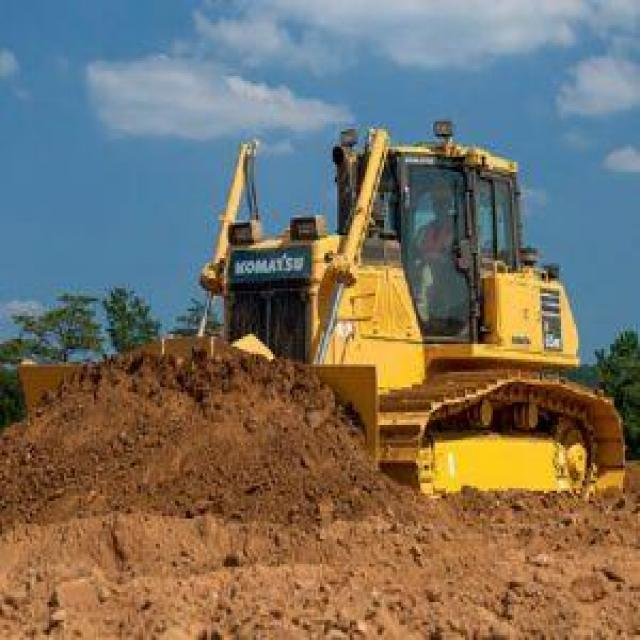Bulldozer: (19, 96, 638, 526)
